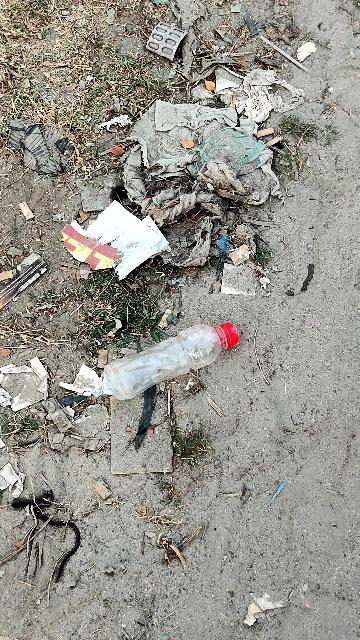bottle: (85, 311, 246, 414)
